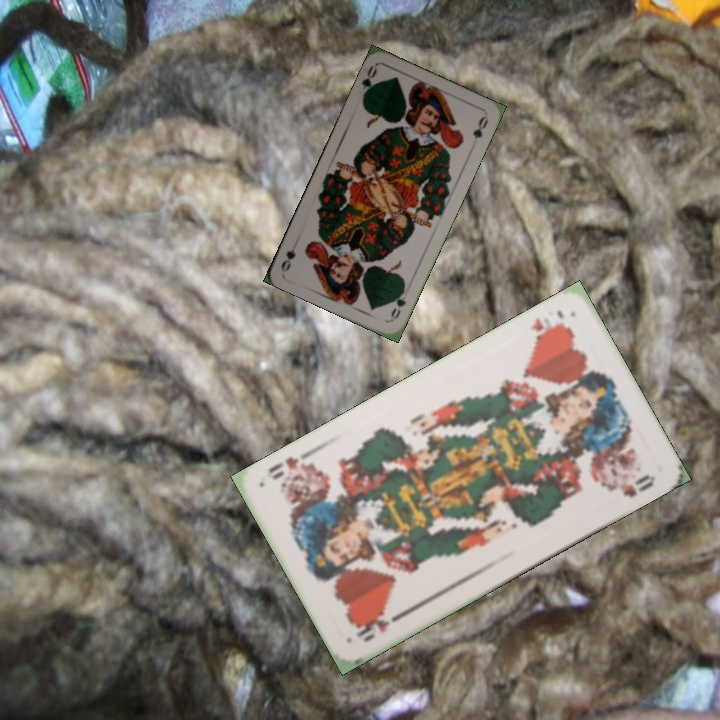GO: (357, 62, 380, 101), (387, 283, 409, 323)
HO: (352, 608, 406, 645), (526, 306, 567, 345)
